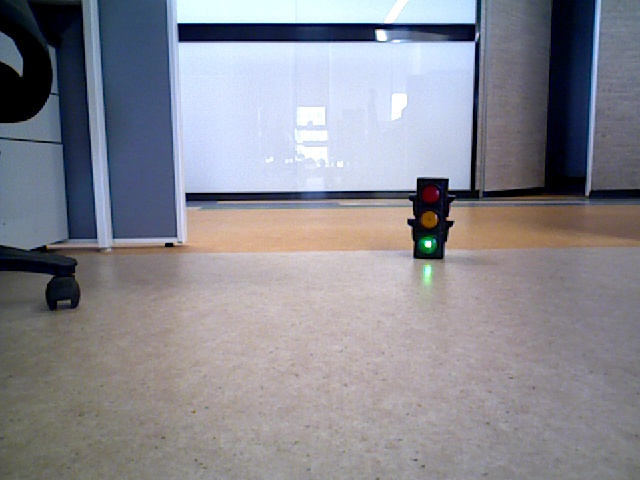green: (416, 177, 443, 255)
